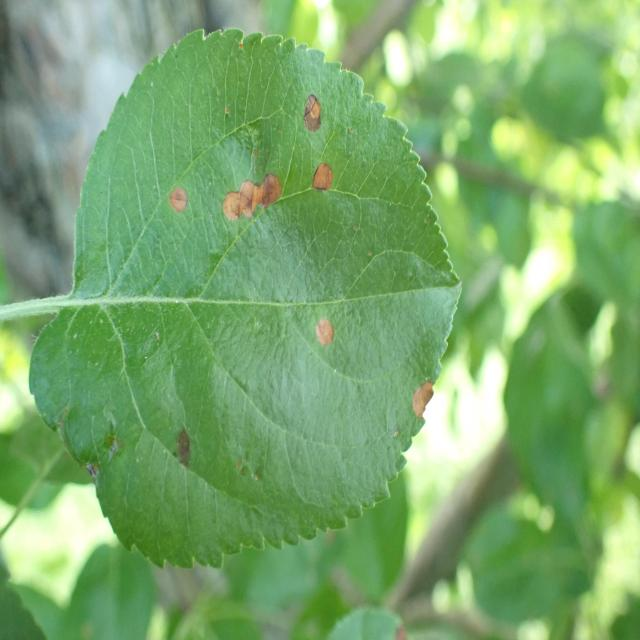Black Rot: (210, 175, 294, 228), (395, 361, 441, 447), (297, 56, 329, 147), (303, 308, 345, 365), (164, 167, 194, 230), (304, 158, 336, 215)
